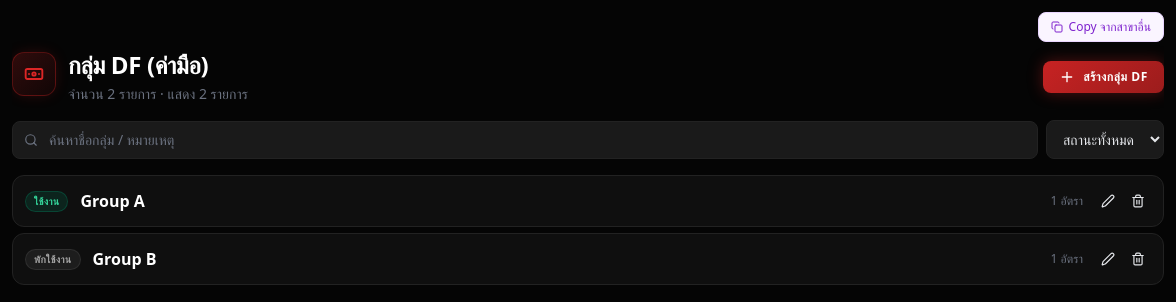
Test: DfGroupsTab › DU3: status filter isolates
Expected: the text "Group A" is shown, [80,190,145,212]
Step 1. Select "พักใช้งาน" in the dropdown showing "สถานะทั้งหมด" → coordinates (1105, 140), box [1046,120,1164,159]
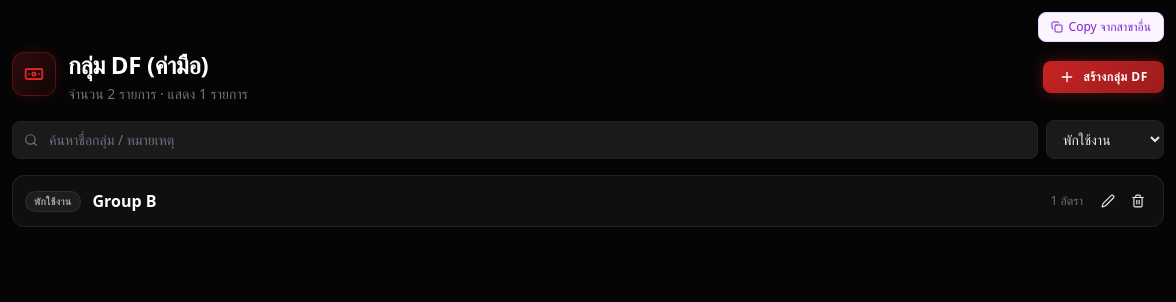
Expected: the text "Group B" is shown, [92,190,156,212]
Result: the text "Group A" is gone
